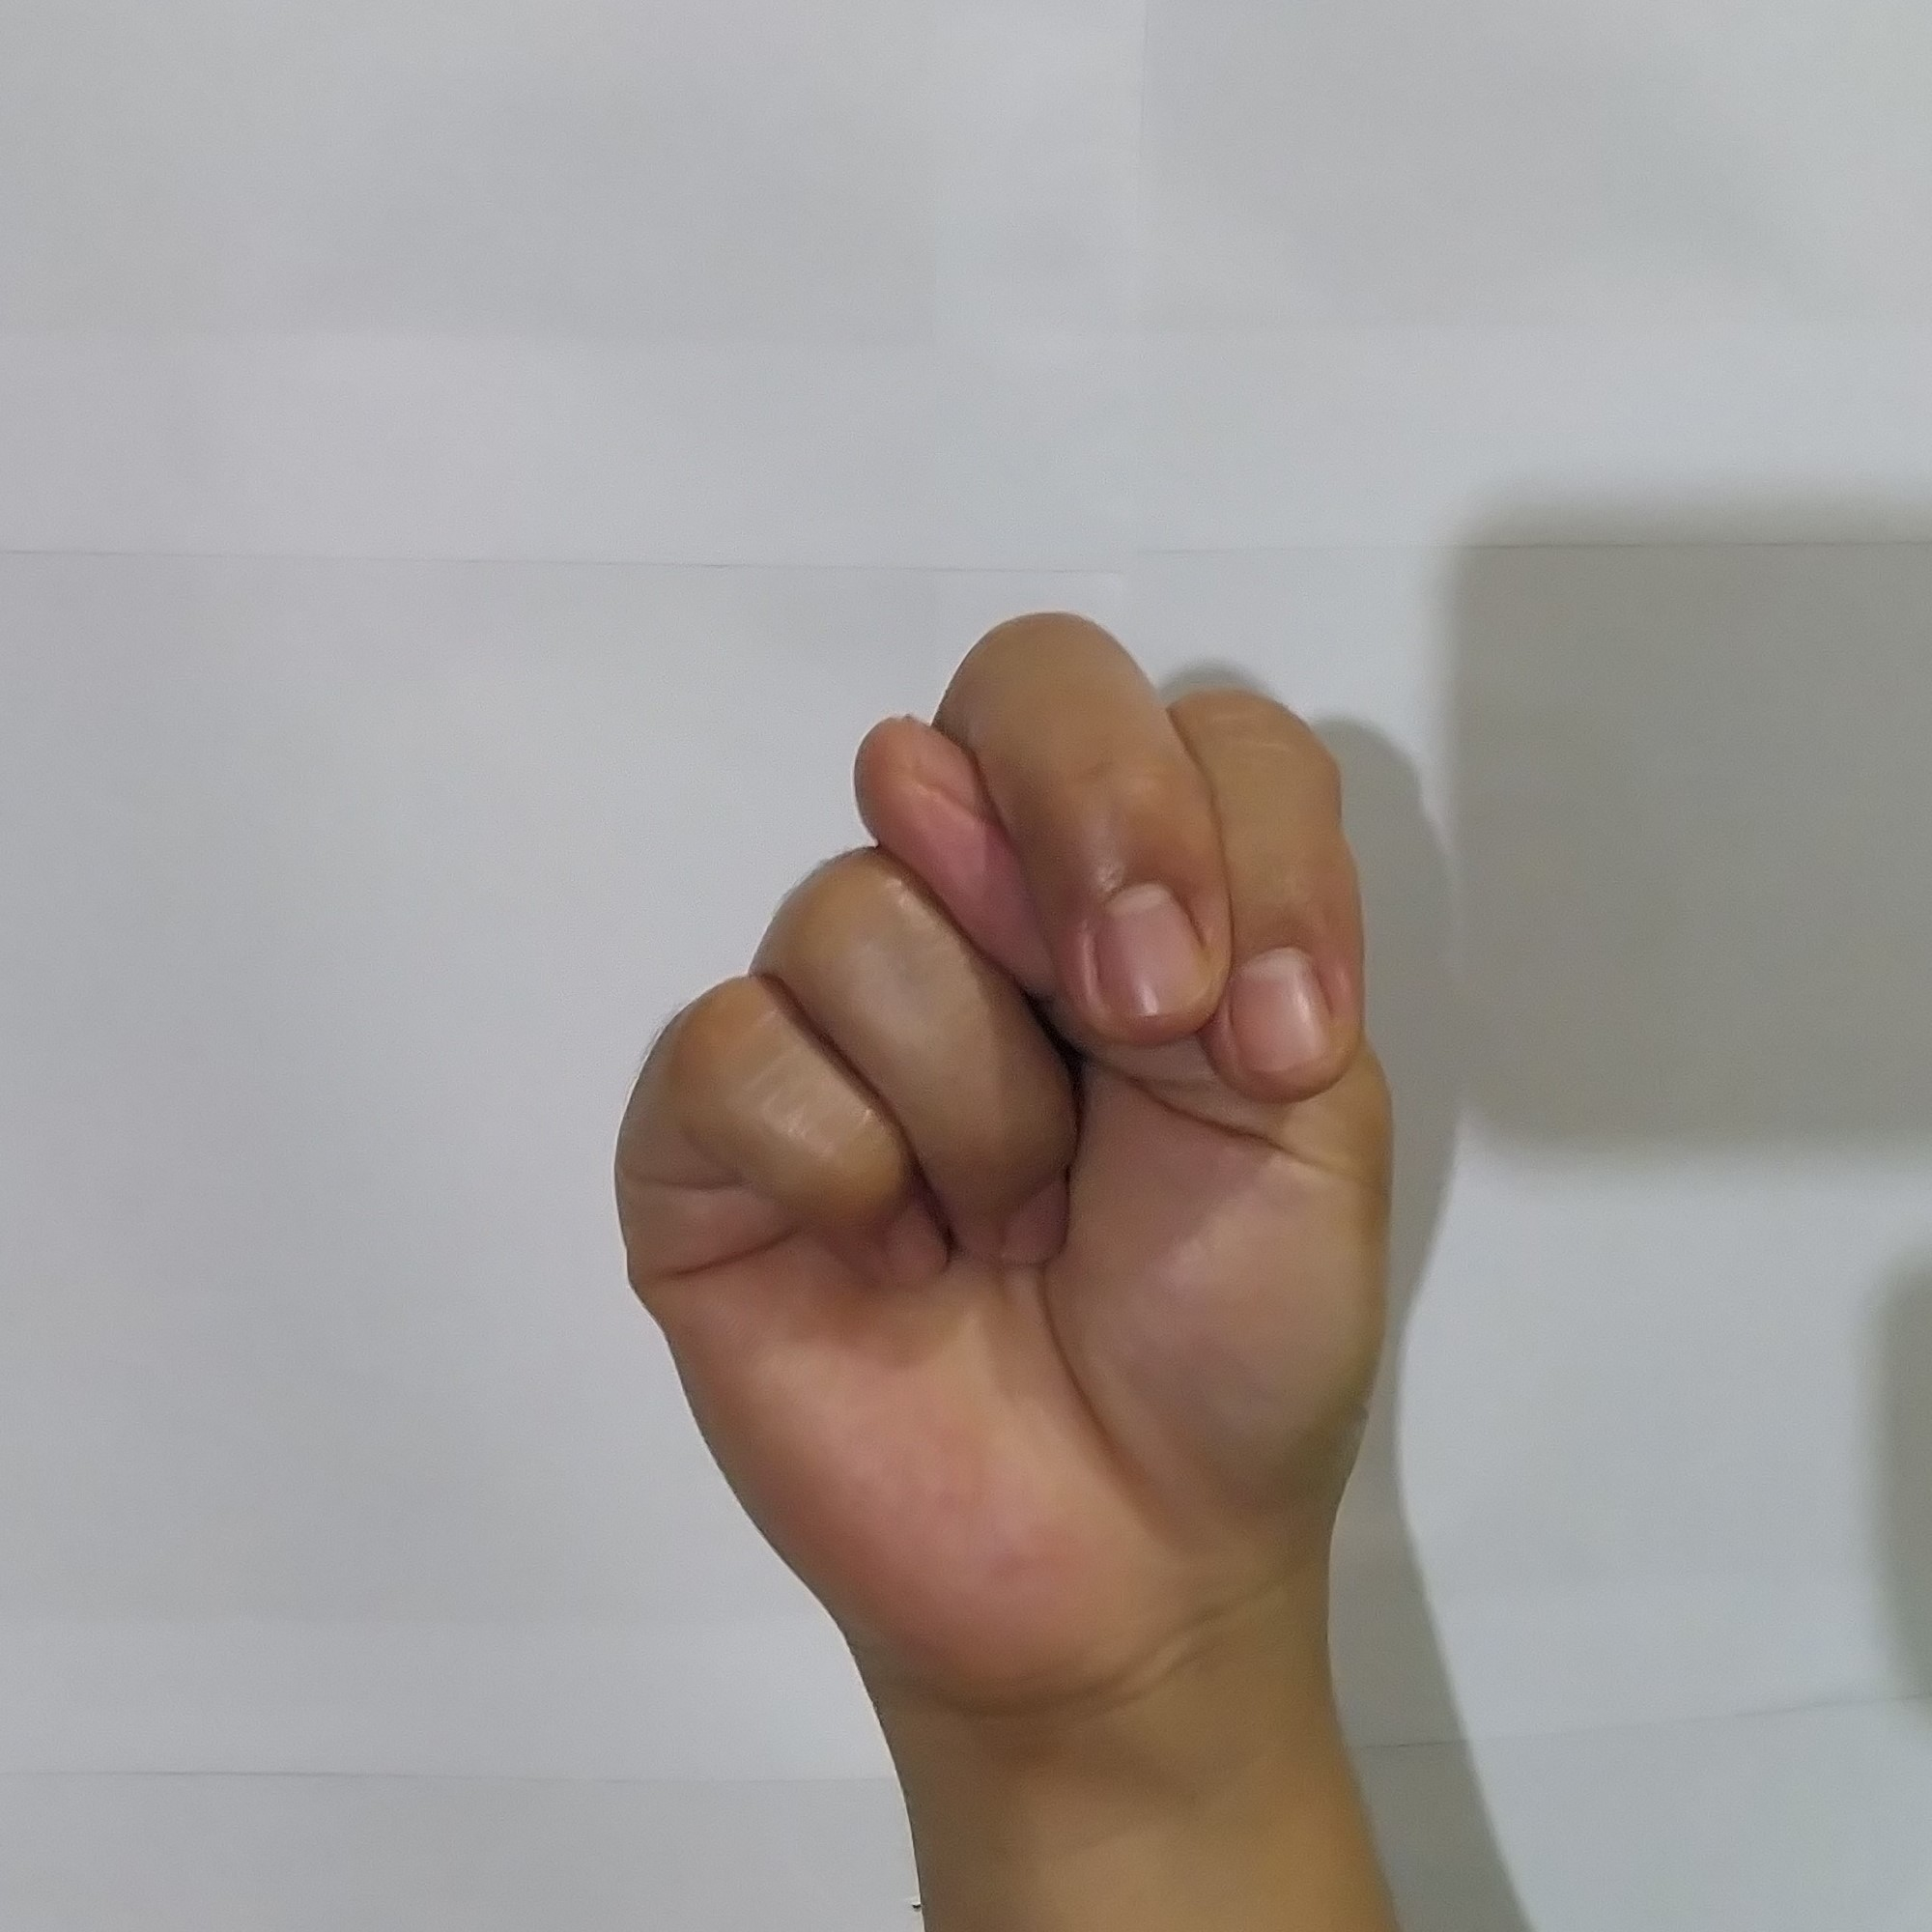N: (587, 584, 1424, 1706)
